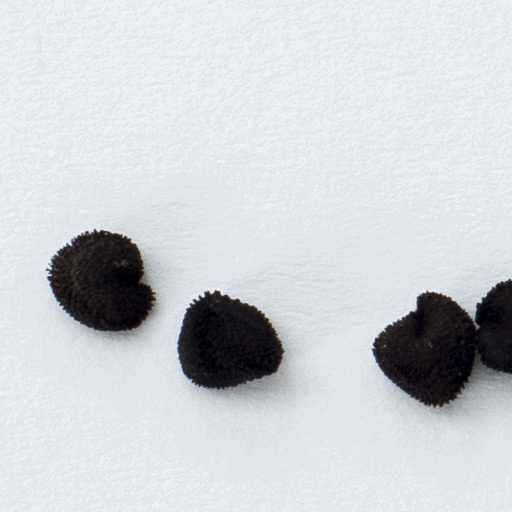Agrostemma: (369, 290, 479, 411), (44, 228, 158, 336), (172, 291, 287, 393), (475, 275, 511, 380)
